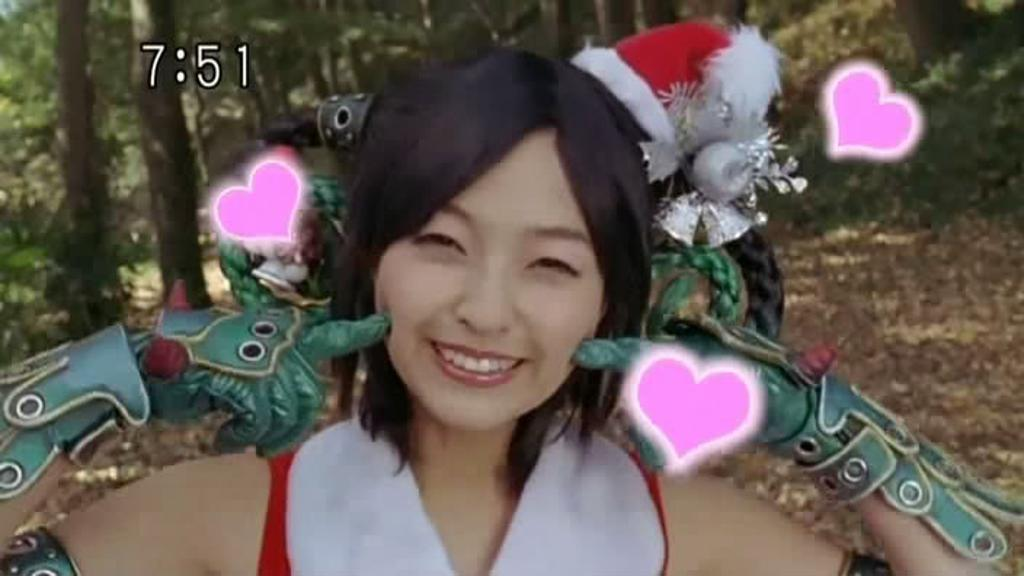face: (386, 126, 602, 416)
